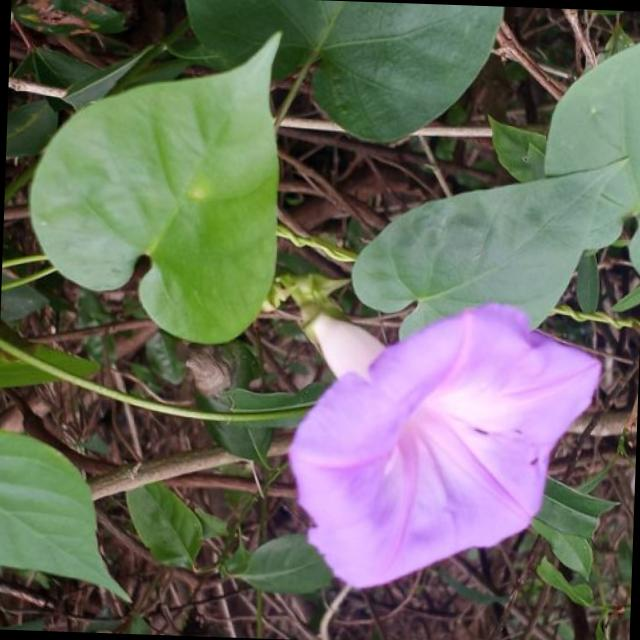ipomoea: (280, 291, 608, 600)
